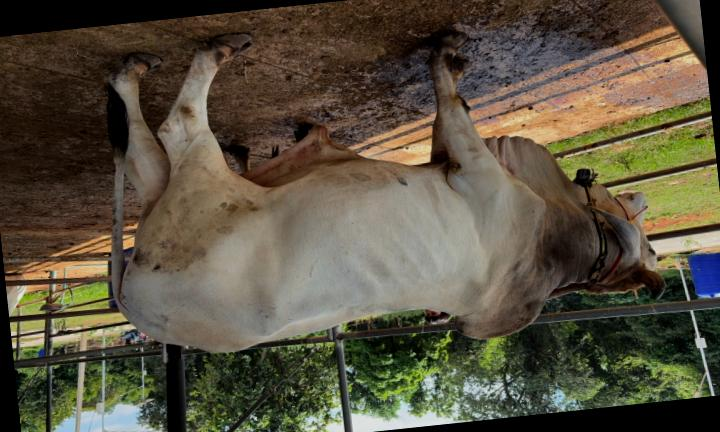Brahman: (107, 33, 663, 352)
